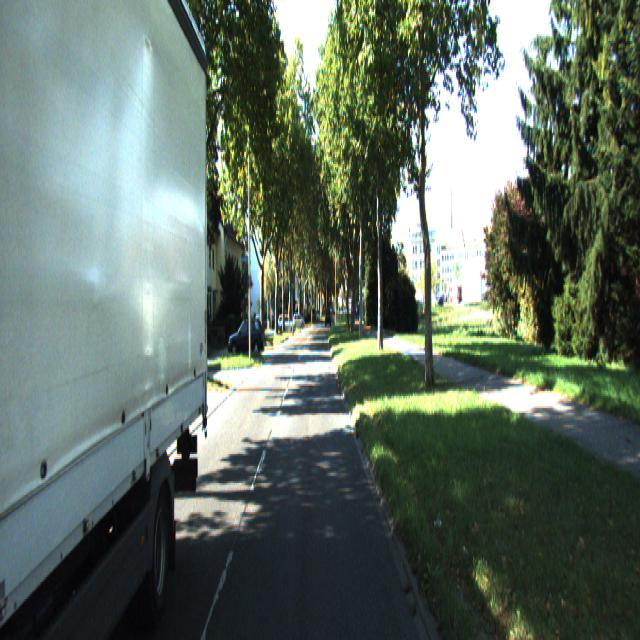Car: (19, 0, 214, 639), (228, 318, 264, 361)
